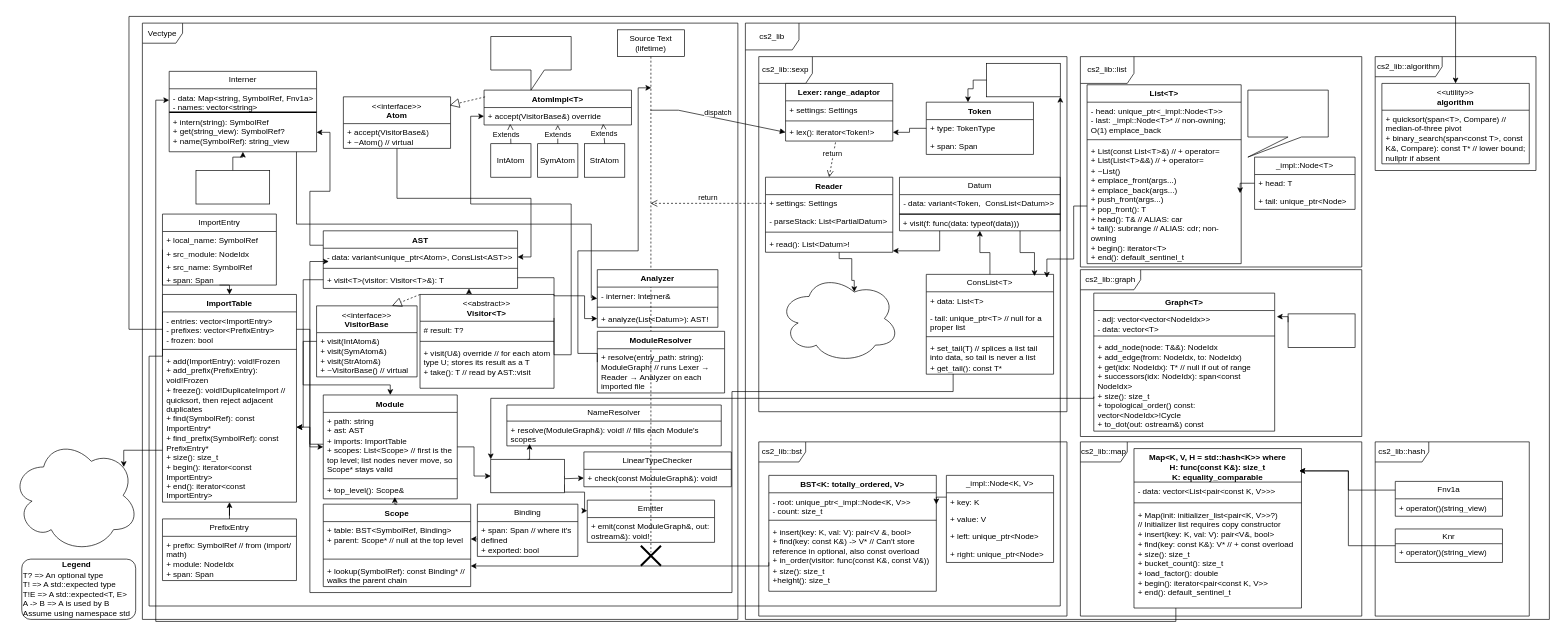
Some shapes in this 1561 by 639 pixel diagram are drawn without their labels. The shapes that lost their labels are listed below. From the top down, each one's centre as x and y in pixels, then its label:
point (530, 63): This is a CRTP type used to reduce boilerplate
point (1023, 80): Span A range of code in the source
point (1287, 123): Rule of 5: iterative destructor, and copy/move keep last valid.
point (232, 187): SymbolRef: size_t
point (838, 318): This may become a range adaptor in the future
point (1321, 330): NodeIdx = size_t
point (75, 495): freeze() sorts both tables, so lookups can binary search.
point (527, 476): ModuleGraph = Graph<Module>
